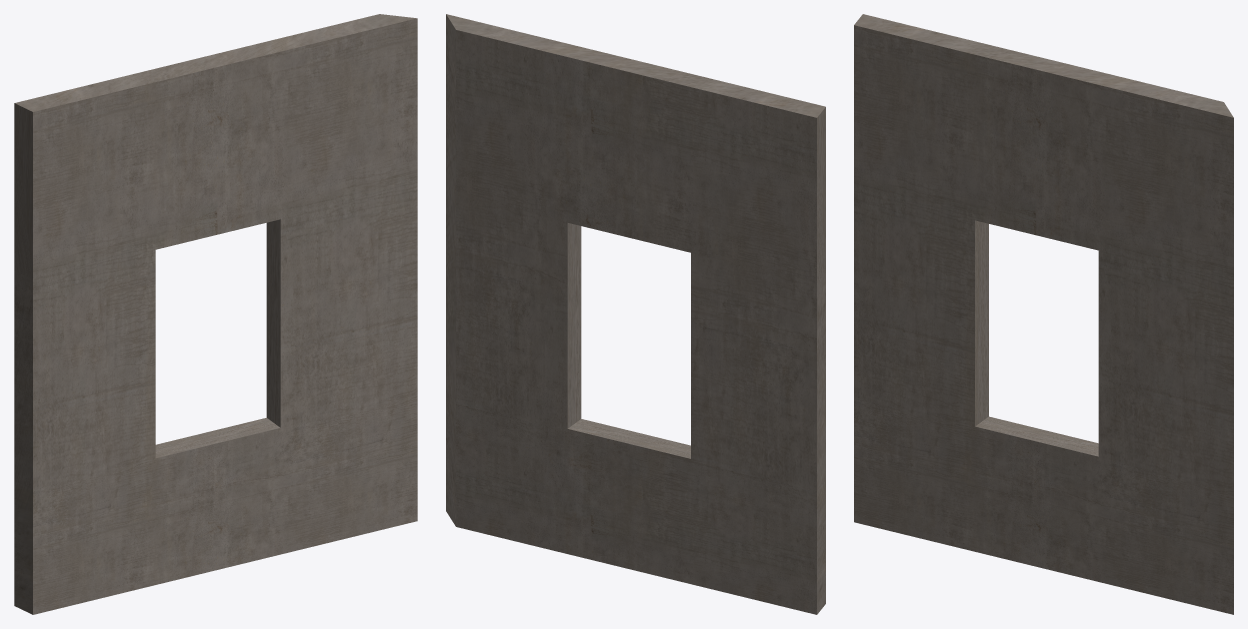
File: wall1_2.obj
3 views of the same model, side by side, from view 1: azimuth 30°, elevation 25°; view 2: azimuth 150°, elevation 25°; view 3: azimuth 330°, elevation 25° (orthographic).
Parts seen in each view (by area): view 1: wall.001_2; view 2: wall.001_2; view 3: wall.001_2.
Part boxes in pixels (left/top/right/bottom): wall.001_2: left=14, top=14, right=417, bottom=614; wall.001_2: left=446, top=14, right=825, bottom=614; wall.001_2: left=854, top=14, right=1233, bottom=614.
Bounding box in the file's own units: 0.81 × 1 × 0.05.
